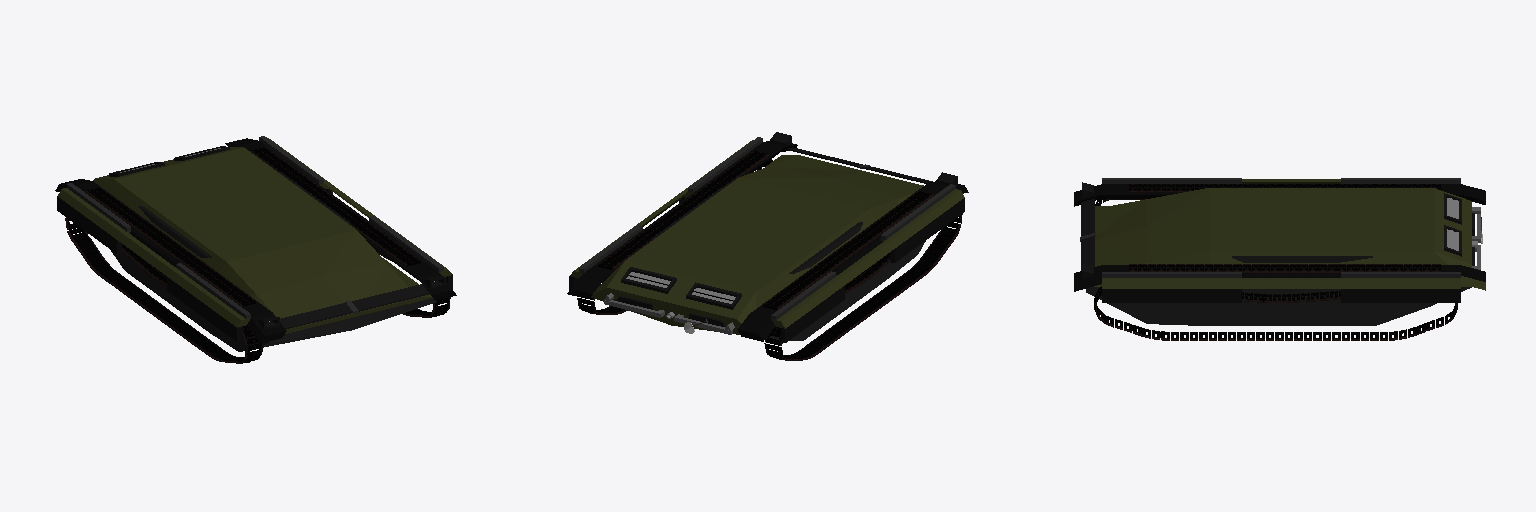
The model's file is Narushat-A_Chassis.obj.
3 renders of one model, left to right at view 1: azimuth 30°, elevation 25°; view 2: azimuth 150°, elevation 25°; view 3: azimuth 270°, elevation 25°, orthographic.
Visible parts, largest first — view 1: Cube, Cube.009_Cube.007, Cube.011_Cube.009, Cube.010_Cube.008; view 2: Cube, Cube.009_Cube.007, Cube.011_Cube.009, Cube.010_Cube.008; view 3: Cube, Cube.008_Cube.006, Cube.010_Cube.008, Cube.011_Cube.009.
Part boxes in pixels (bbox=[...]): Cube: bbox=[55, 136, 456, 351]; Cube.009_Cube.007: bbox=[65, 217, 262, 363]; Cube.011_Cube.009: bbox=[85, 187, 257, 306]; Cube.010_Cube.008: bbox=[250, 147, 422, 266]; Cube: bbox=[567, 132, 968, 342]; Cube.009_Cube.007: bbox=[764, 214, 962, 360]; Cube.011_Cube.009: bbox=[761, 191, 934, 309]; Cube.010_Cube.008: bbox=[597, 151, 769, 269]; Cube: bbox=[1074, 178, 1485, 325]; Cube.008_Cube.006: bbox=[1094, 286, 1457, 340]; Cube.010_Cube.008: bbox=[1129, 264, 1440, 272]; Cube.011_Cube.009: bbox=[1129, 184, 1440, 192].
Size of the model in its own units: 1.6 by 0.5145 by 2.64.